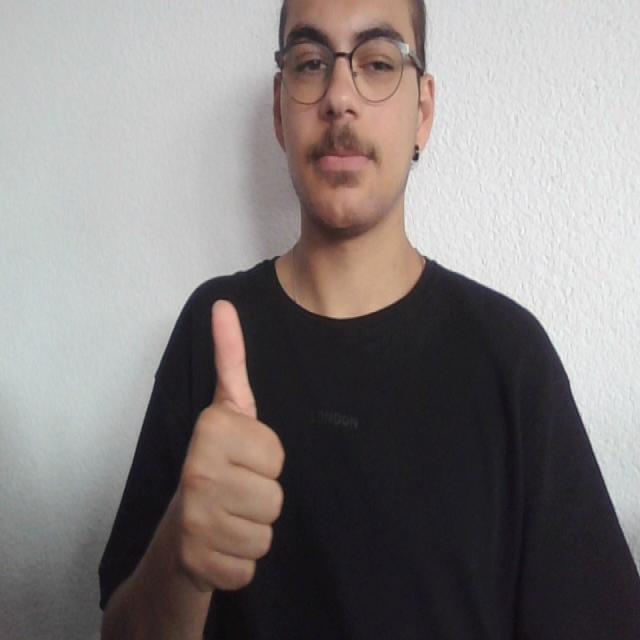Tamam: (158, 289, 297, 606)
